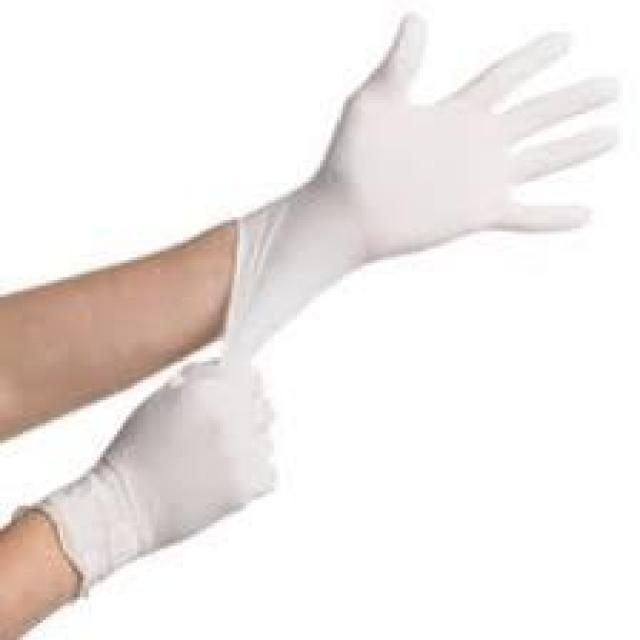Glove: (202, 33, 632, 372), (28, 354, 324, 592)
